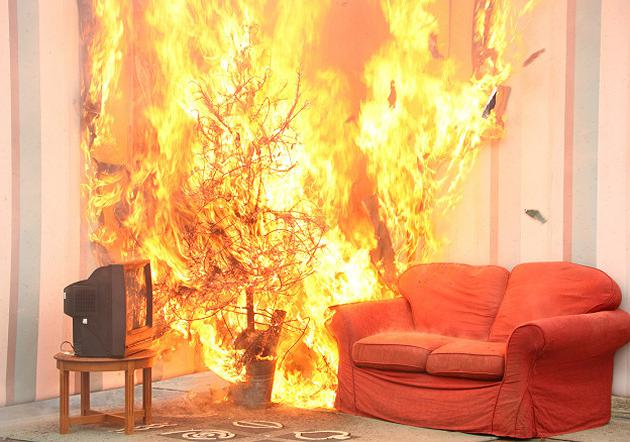fire: (75, 3, 515, 413)
